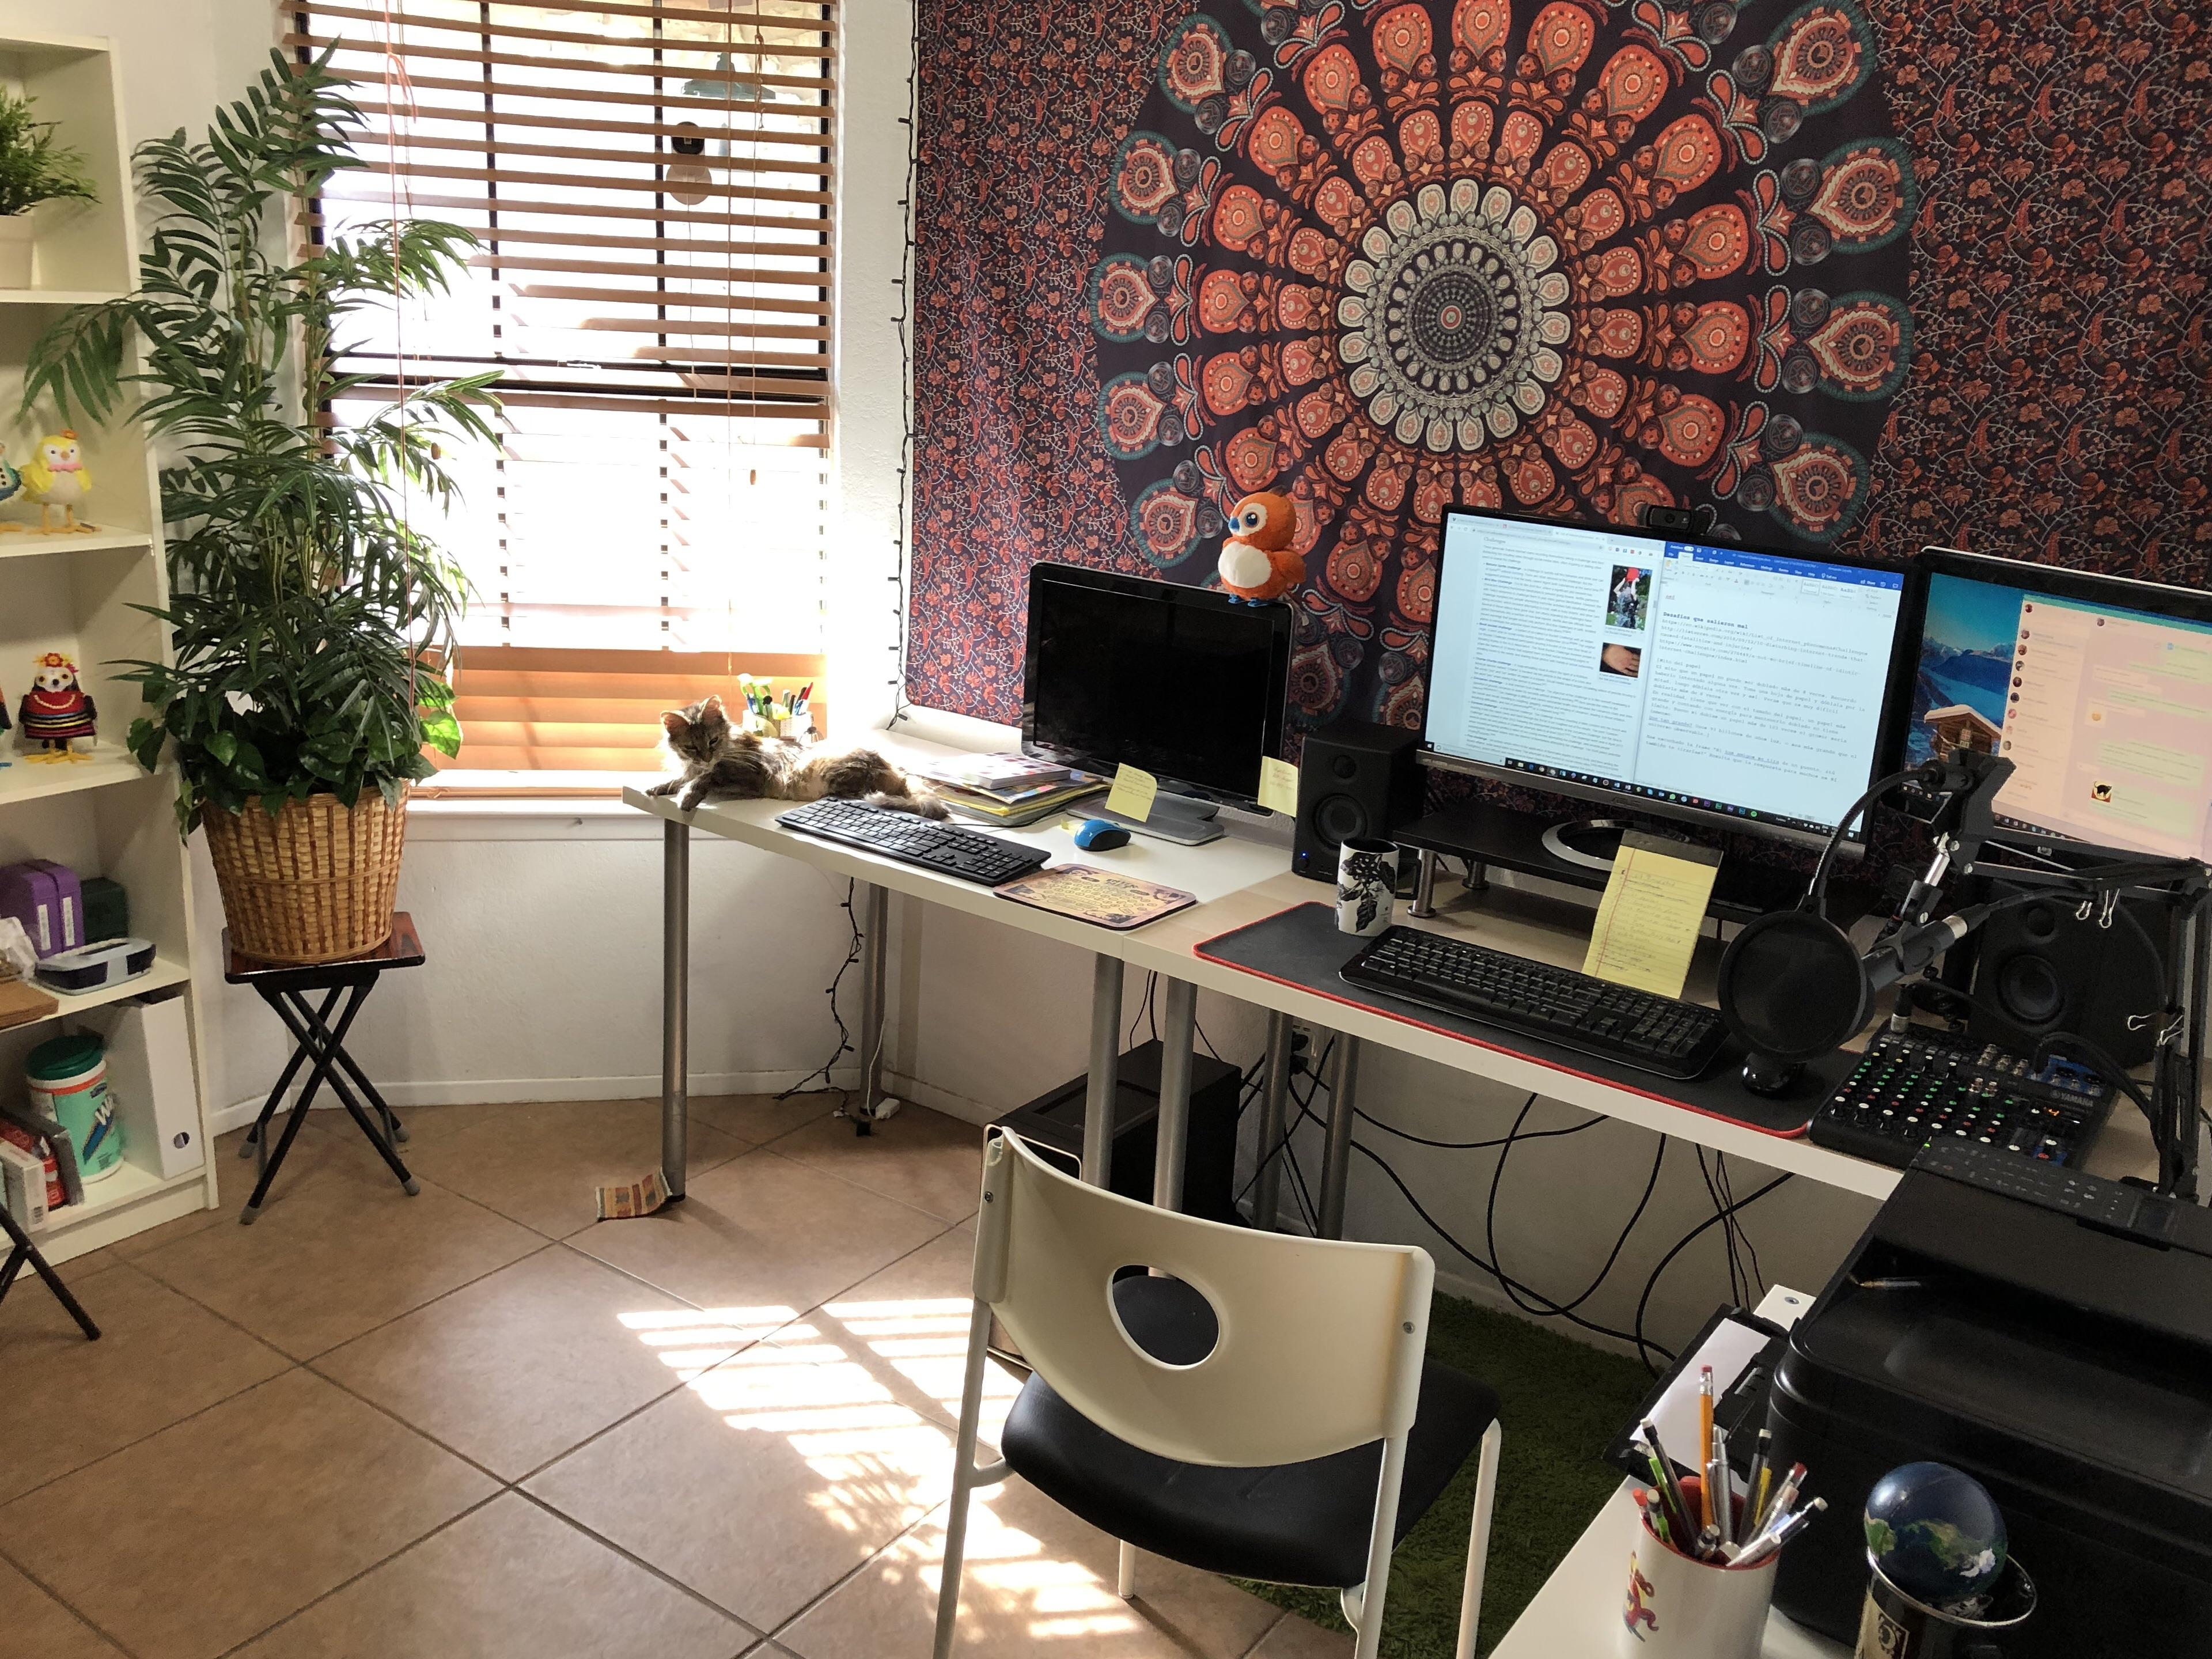Desk (Generic): (1136, 821, 2212, 1659), (625, 716, 1320, 1307)
Desktop (Windows): (981, 1028, 1245, 1377)
External Microphone (with Boom Arm): (1719, 753, 2212, 1225)
External Speakers (Subwoofers): (1966, 877, 2177, 1073), (1287, 716, 1423, 885)
Keyboard (Generic): (1336, 917, 1735, 1093), (782, 796, 1052, 892)
Monitor (Landscape): (1426, 500, 1916, 868), (1893, 542, 2212, 864), (1024, 561, 1289, 847)
Mouse (Generic): (1726, 1046, 1815, 1094), (1064, 810, 1143, 857)
Mousepad (Gaming): (1190, 899, 1860, 1148)
Mousepad (Generic): (993, 857, 1197, 934)
Mug: (1324, 823, 1406, 941)
Printer: (1599, 1159, 2212, 1659)
